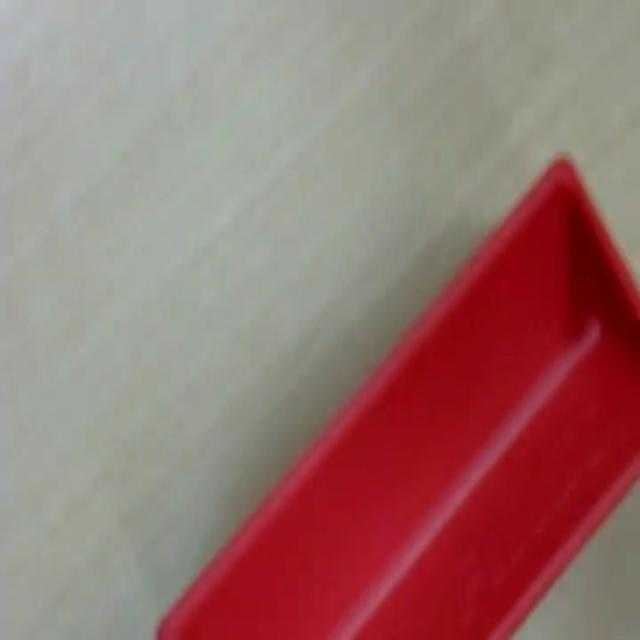red_block: (154, 150, 638, 638)
